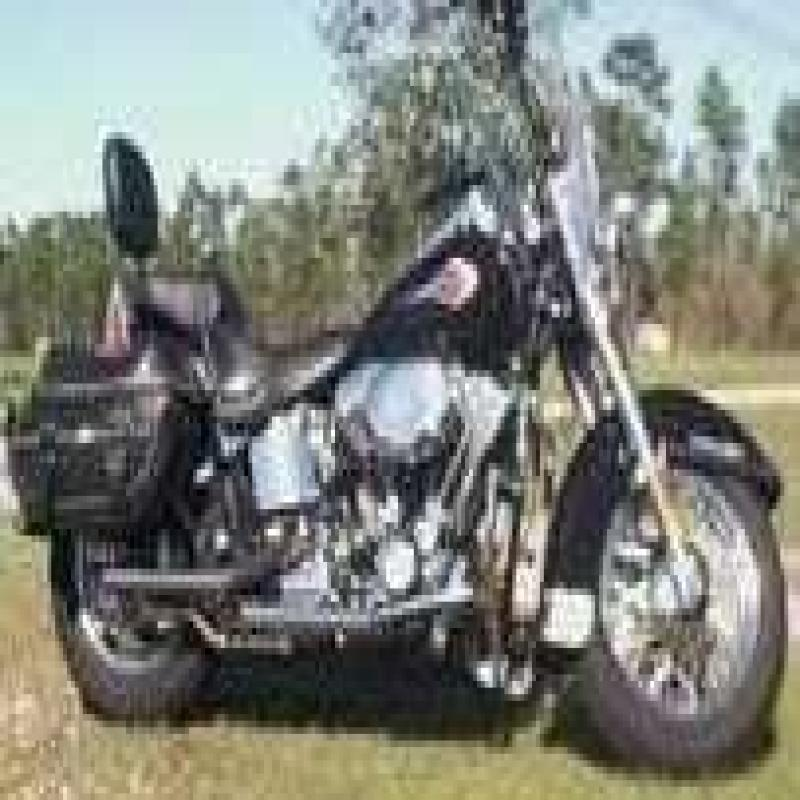bike: (60, 68, 782, 792)
